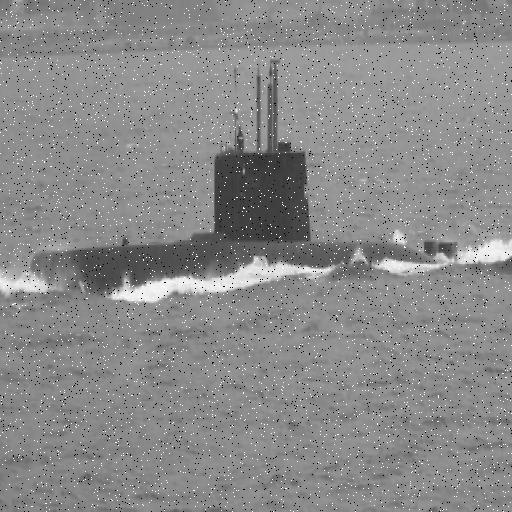submarine: (21, 48, 449, 307)
